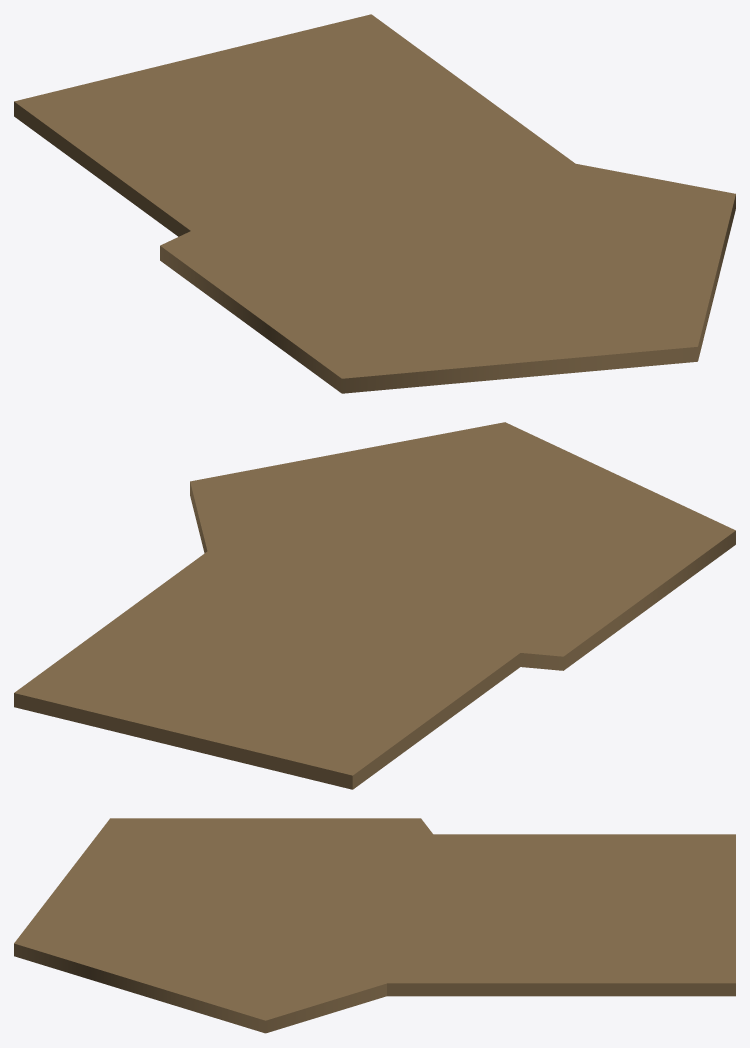
Rendered from road_dirt_dead_end_lod2.glb.
3 views of the same model, one above another, from view 1: azimuth 30°, elevation 25°; view 2: azimuth 150°, elevation 25°; view 3: azimuth 270°, elevation 25° (orthographic). The views are drawn at different scales.
Parts seen in each view (by area): view 1: body; view 2: body; view 3: body.
Boxes of the visible parts, box(x1,y1,x2,y2) form: body: box(14, 14, 735, 393); body: box(14, 422, 735, 789); body: box(14, 818, 735, 1033).
Size of the model in its own units: 4.07 by 0.12 by 6.14.
